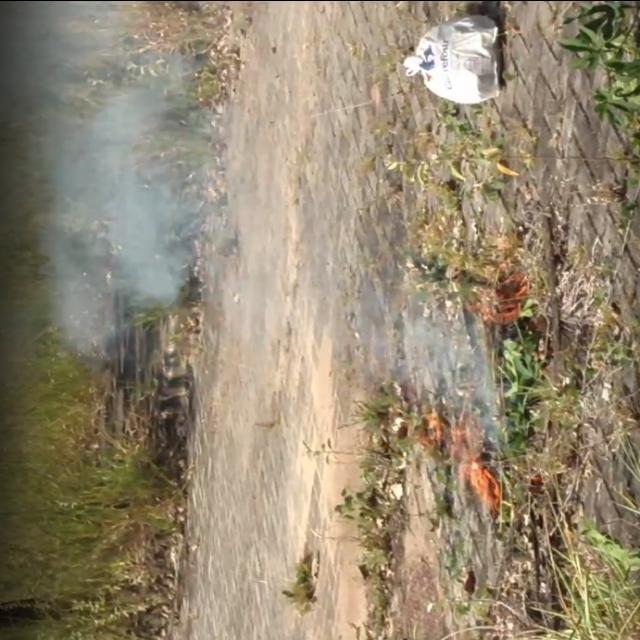Fire: (418, 406, 502, 512), (471, 252, 527, 336)
